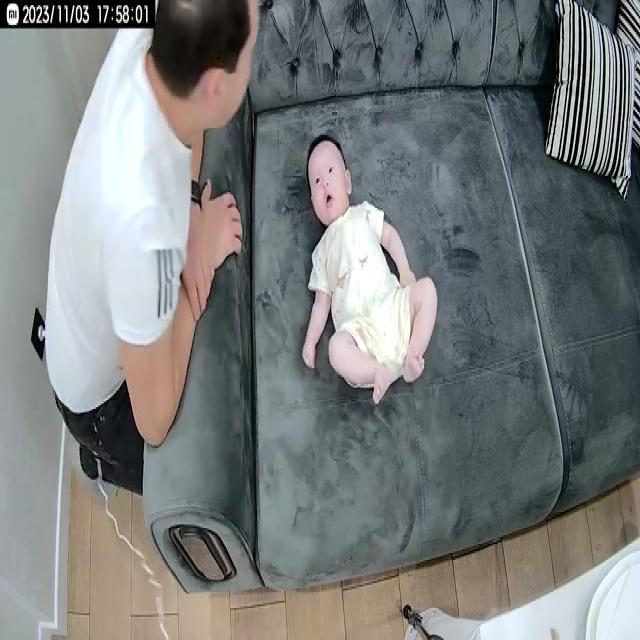baby: (302, 130, 439, 406)
